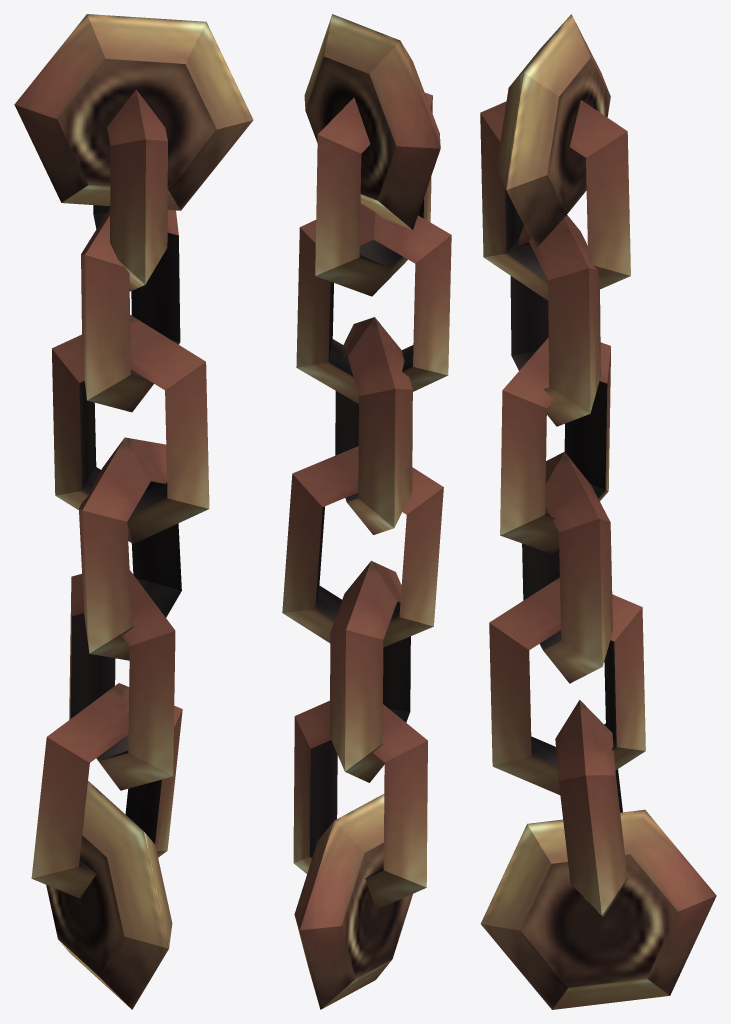
Rendered from A03_chain_k001.FBX.
The picture shows the model from 3 angles, left to right: view 1: azimuth 30°, elevation 25°; view 2: azimuth 150°, elevation 25°; view 3: azimuth 270°, elevation 25°; orthographic projection. The views are drawn at different scales.
Parts seen in each view (by area): view 1: A03_chain_k001; view 2: A03_chain_k001; view 3: A03_chain_k001.
Part boxes in pixels (x1,y1,x2,y2): A03_chain_k001: (14,14,253,1009); A03_chain_k001: (282,14,451,1009); A03_chain_k001: (480,14,716,1009).
Size of the model in its own units: 0.4707 by 2.35 by 0.5149.
Materials: 1 (1 with a texture image).
